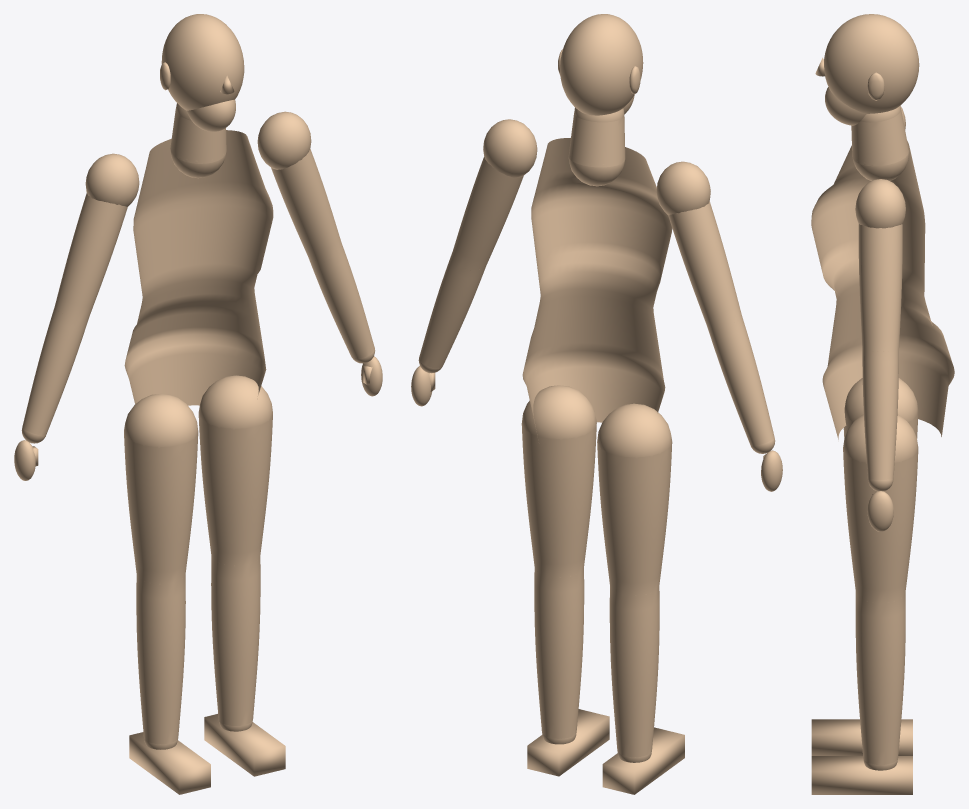
The model's file is base_avatar.glb.
3 views of the same model, side by side, from view 1: azimuth 30°, elevation 25°; view 2: azimuth 150°, elevation 25°; view 3: azimuth 270°, elevation 25° (orthographic).
Visible parts, largest first — view 1: body_mesh; view 2: body_mesh; view 3: body_mesh.
Part boxes in pixels (x1,y1,x2,y2): body_mesh: (14, 14, 382, 794); body_mesh: (411, 14, 782, 794); body_mesh: (811, 14, 954, 794).
Size of the model in its own units: 0.9258 by 1.8 by 0.3122.
